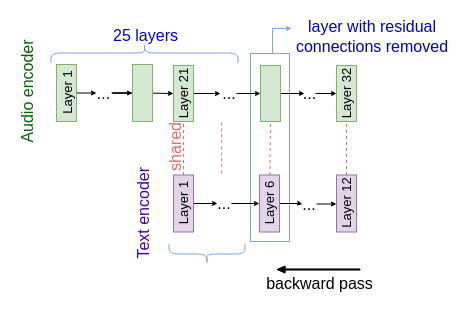
Image size: 468x311. Some labels were removed from this diagram. The shapes that lost their labels are listed below. From the top down, each one's centre as x and y in pixels, then its label:
(142,93): Layer 20
(270,93): Layer 26
(206,253): 5 layers
